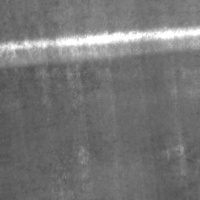scratches: (0, 24, 195, 66)
